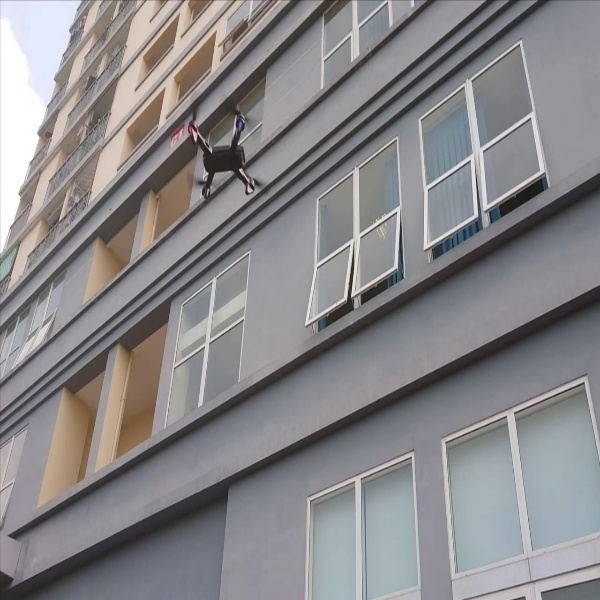drone: (183, 94, 272, 210)
